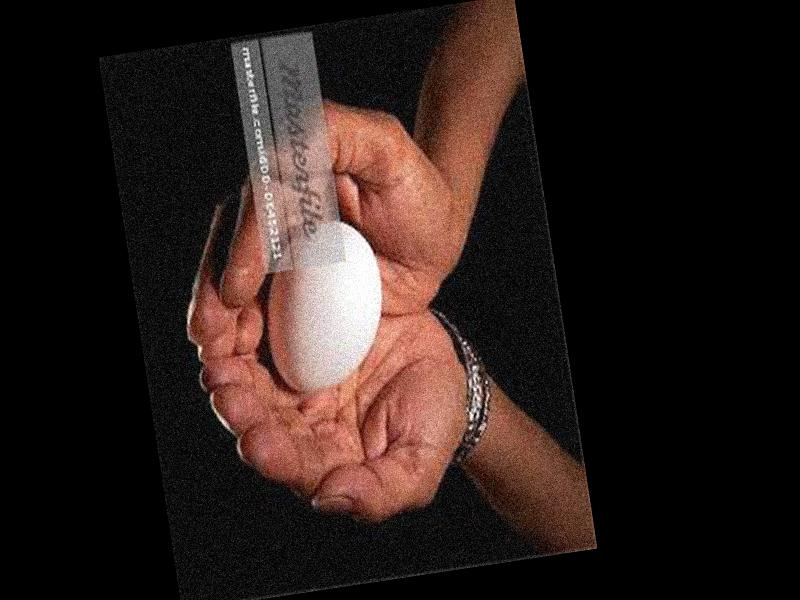Eggs: (251, 215, 396, 398)
